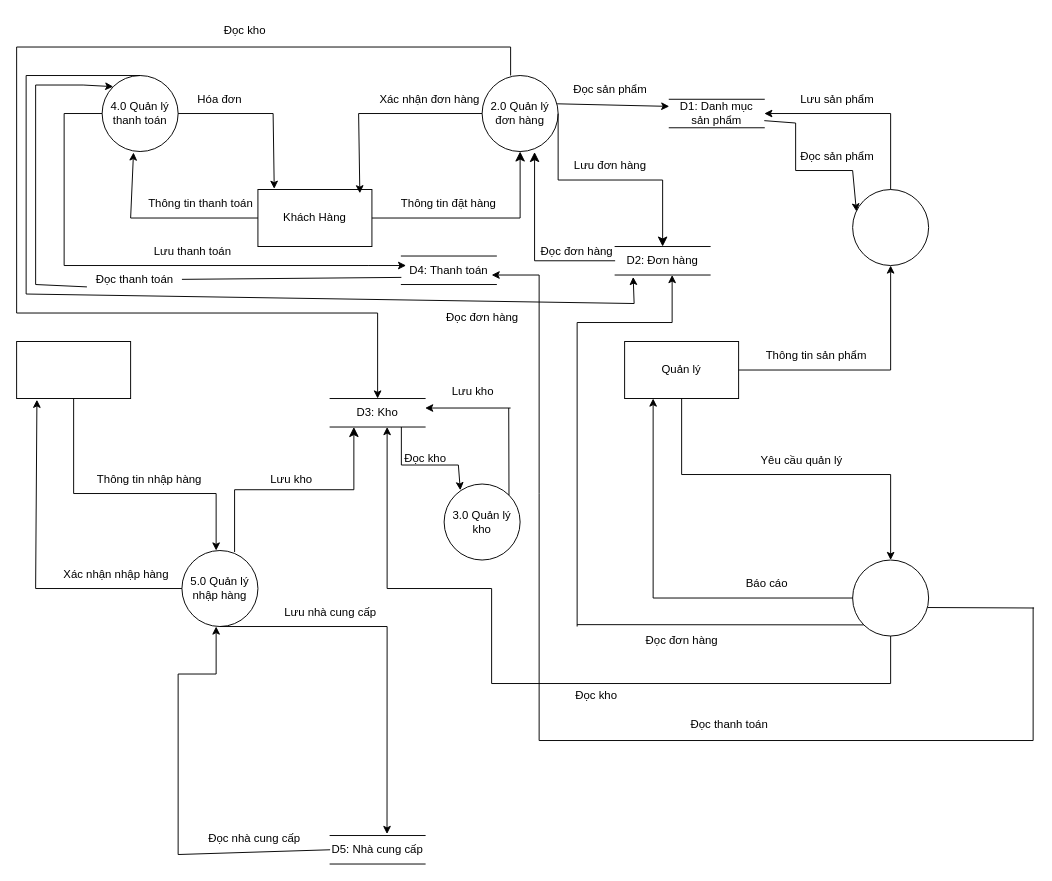
Some shapes in this 1052 by 881 pixel diagram are drawn without their labels. Here are the shapes that lost their labels. From the top down, the centre of each, then its label:
(890,227): 1.0 Quản lý sản phẩm
(73,370): Nhà cung cấp
(890,597): 6.0 Báo cáo
